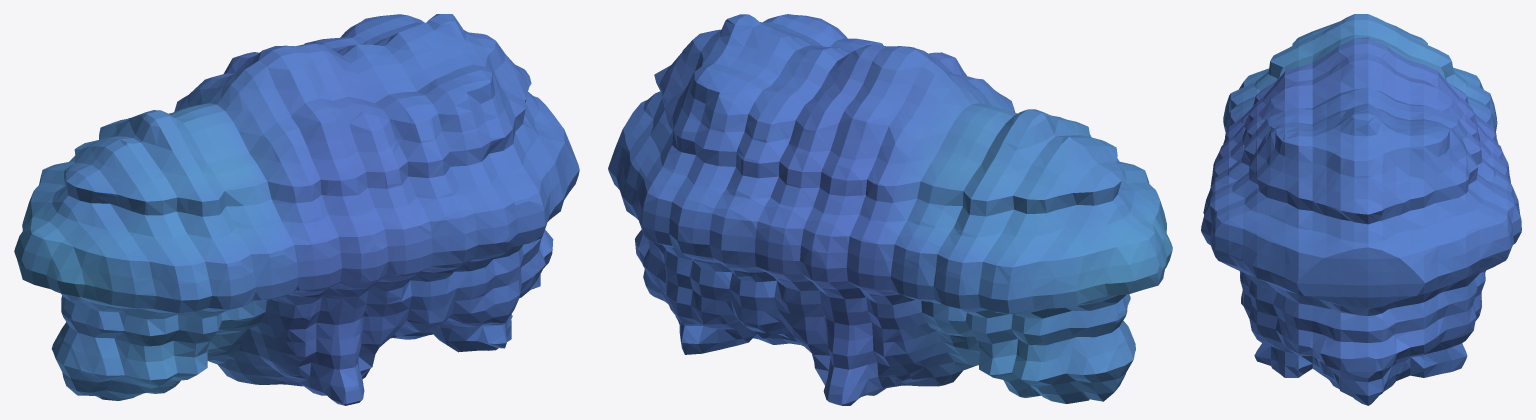
The picture shows the model from 3 angles, left to right: view 1: azimuth 30°, elevation 25°; view 2: azimuth 150°, elevation 25°; view 3: azimuth 270°, elevation 25°; orthographic projection. The views are drawn at different scales.
Parts seen in each view (by area): view 1: geometry_0; view 2: geometry_0; view 3: geometry_0.
Part boxes in pixels (x1=…): geometry_0: x1=14, y1=14, x2=579, y2=405; geometry_0: x1=608, y1=14, x2=1172, y2=405; geometry_0: x1=1201, y1=14, x2=1521, y2=405.
Bounding box in the file's own units: 1.59 × 0.9538 × 0.9806.
